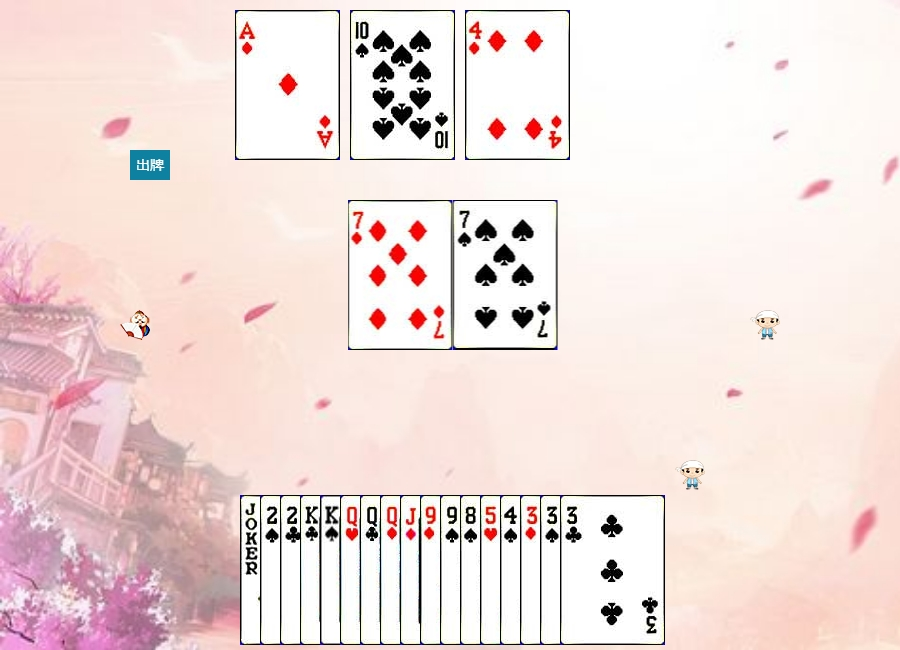10~4: (350, 10, 455, 160)
11~1: (400, 495, 505, 645)
12~1: (380, 495, 485, 645)
12~2: (360, 495, 465, 645)
12~3: (340, 495, 445, 645)
13~2: (300, 495, 405, 645)
13~4: (320, 495, 425, 645)
14~1: (235, 10, 340, 160)
15~2: (280, 495, 385, 645)
15~4: (260, 495, 365, 645)
17~3: (240, 495, 345, 645)
3~1: (520, 495, 625, 645)
3~2: (560, 495, 665, 645)
3~4: (540, 495, 645, 645)
4~1: (465, 10, 570, 160)
4~4: (500, 495, 605, 645)
5~3: (480, 495, 585, 645)
7~1: (348, 200, 453, 350)
7~4: (453, 200, 558, 350)
8~4: (460, 495, 565, 645)
9~1: (420, 495, 525, 645)
9~4: (440, 495, 545, 645)
